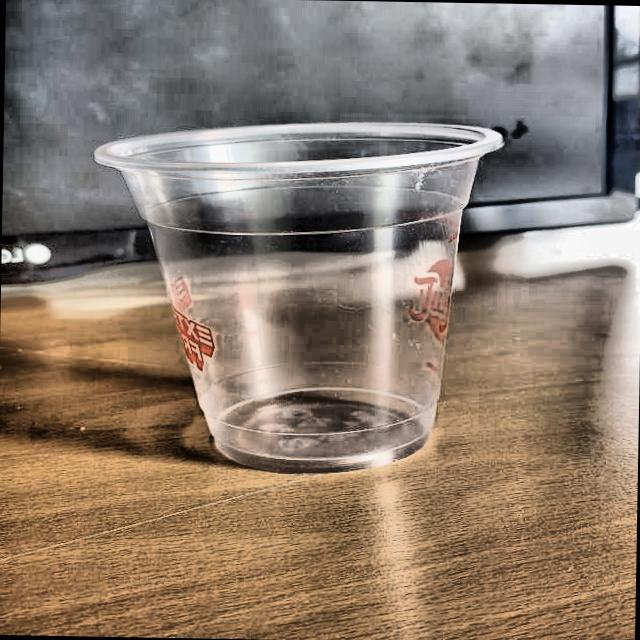plastic cup: (86, 114, 505, 478)
